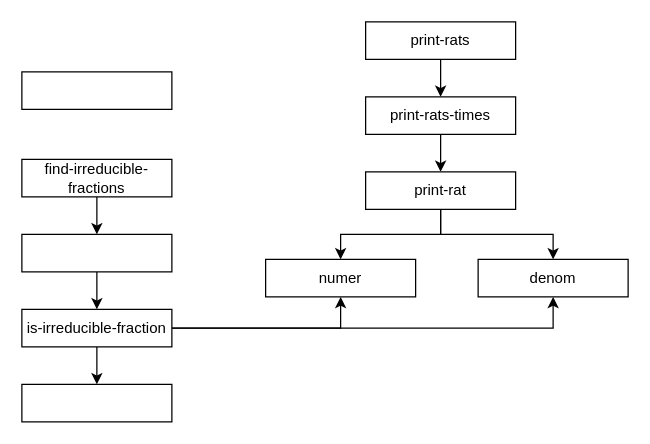
This 650x444 diagram has some shape labels left out. Here are the shapes that lost their labels. From the top down, the centre of each, then its label:
the point at 96,90: make-rat
the point at 96,252: fifc-times
the point at 96,402: gcd
